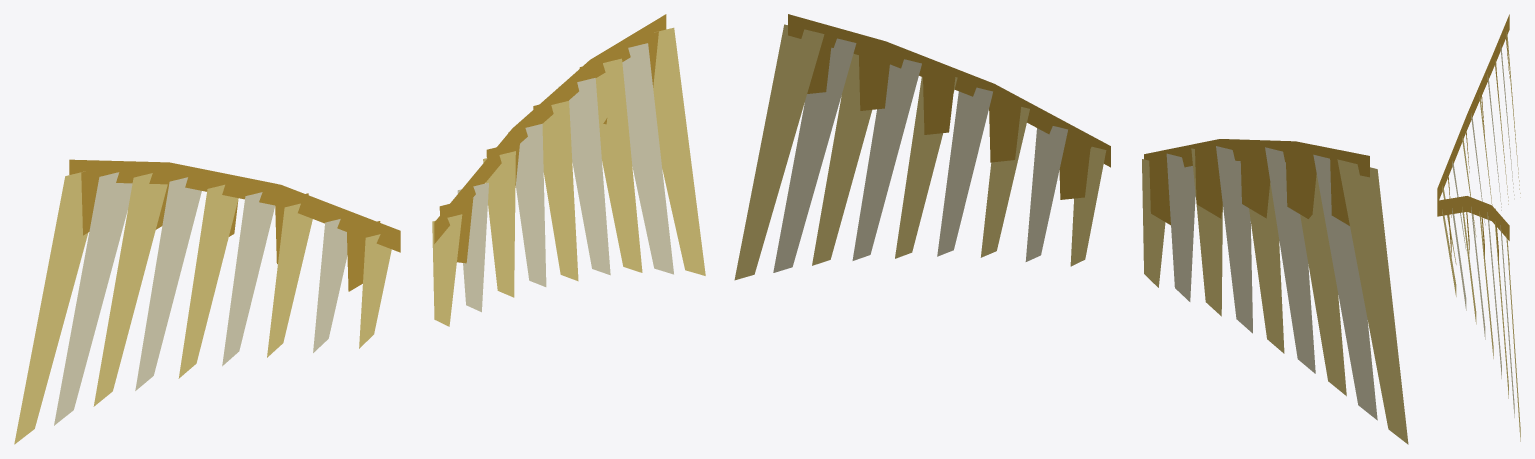
Rendered from crusade_wings.glb.
3 renders of one model, left to right at view 1: azimuth 30°, elevation 25°; view 2: azimuth 150°, elevation 25°; view 3: azimuth 270°, elevation 25°, orthographic. The views are drawn at different scales.
Parts seen in each view (by area): view 1: crusade_wings; view 2: crusade_wings; view 3: crusade_wings.
Part boxes in pixels (x1,y1,x2,y2): crusade_wings: [14, 14, 705, 444]; crusade_wings: [734, 14, 1408, 444]; crusade_wings: [1437, 14, 1520, 441].
Bounding box in the file's own units: 3.29 × 1.27 × 0.4733.
1 material, 1 textured.
